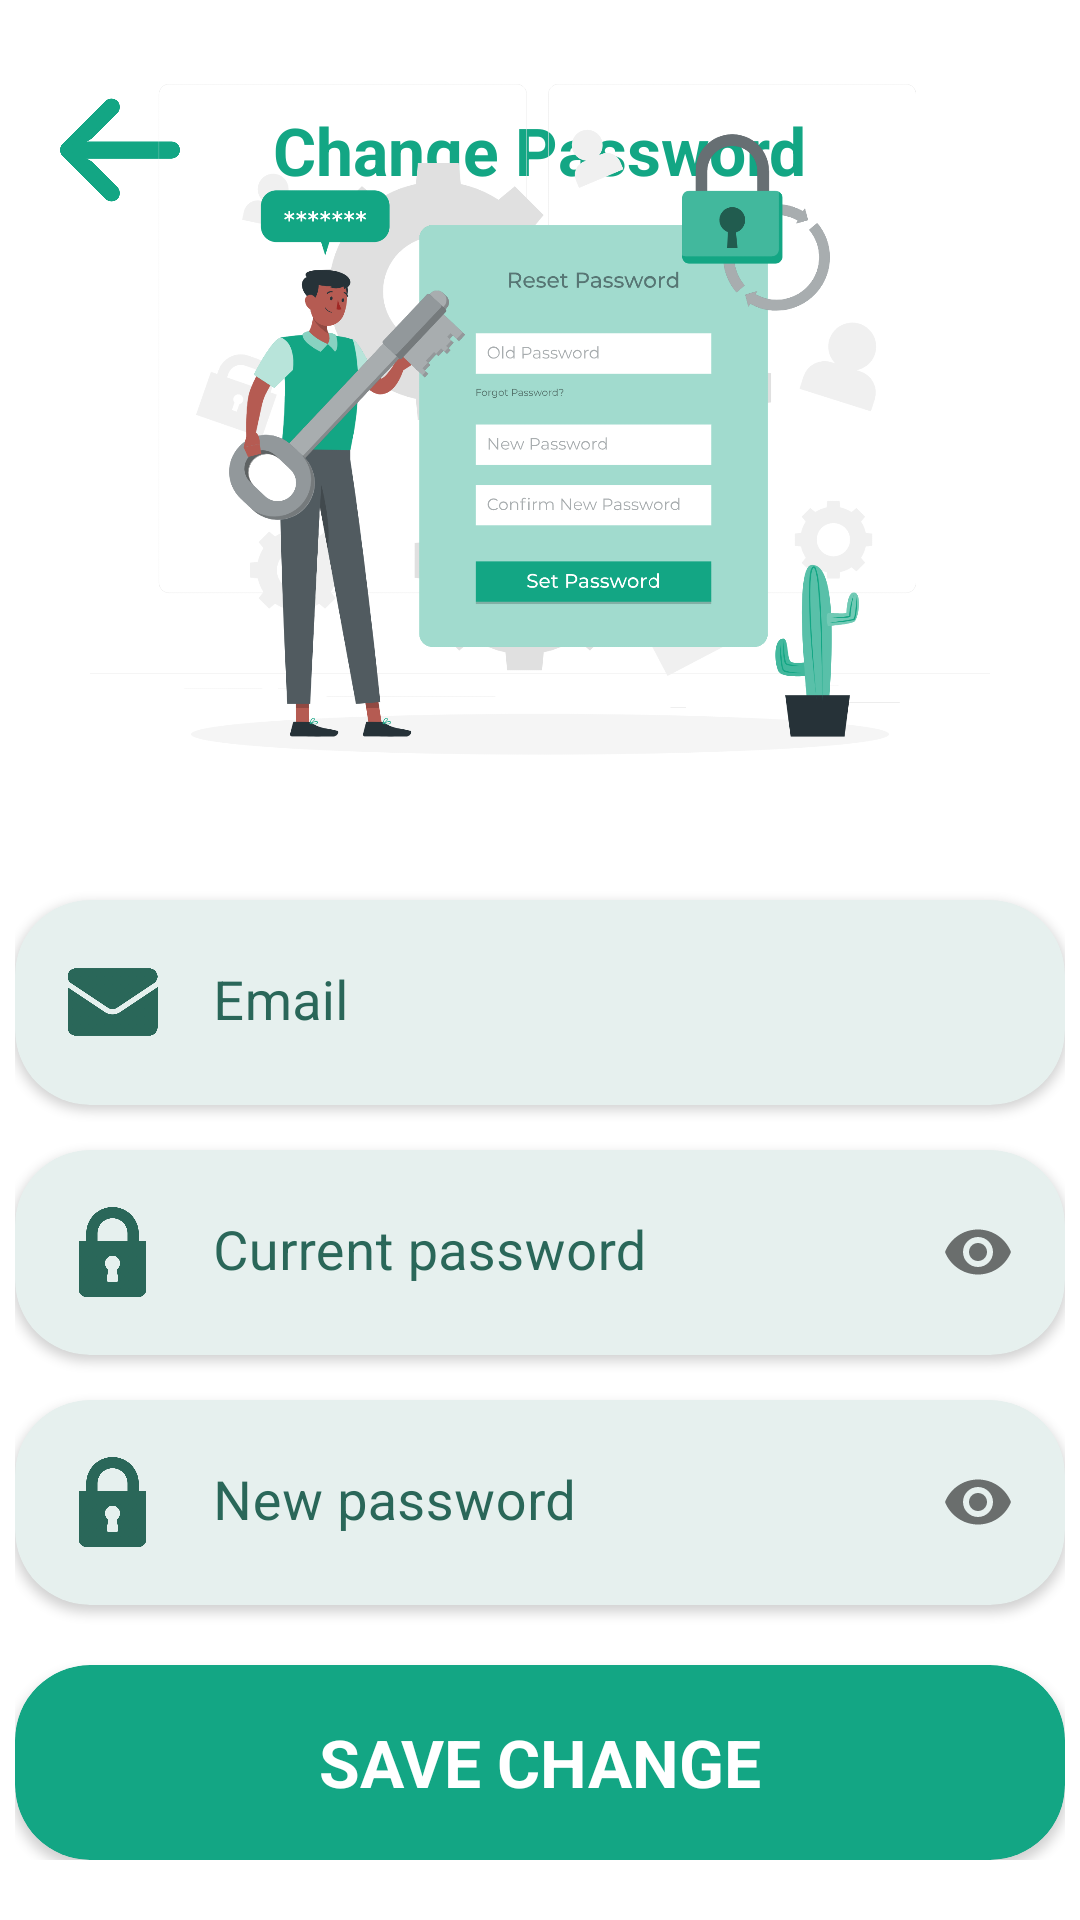

Icon bounding boxes for this 1080 x 1920 phone screenshot, format (x1, y1, x2, y2):
back arrow: (60, 98, 180, 202)
